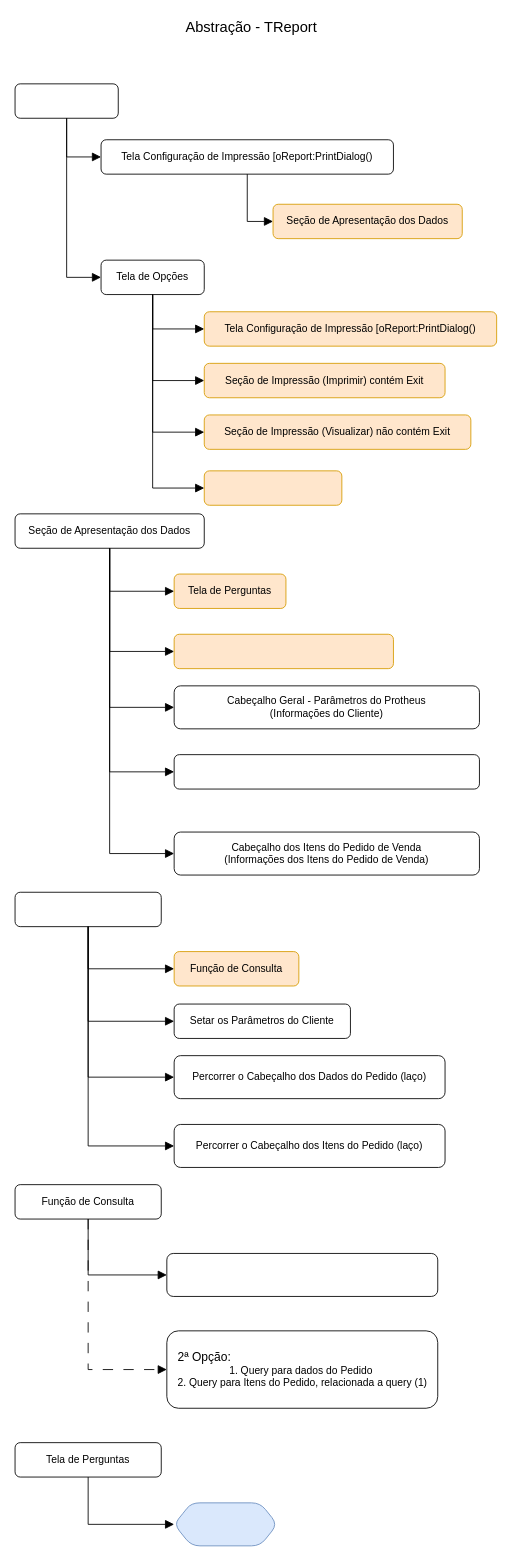
The diagram is 512 pixels wide and 1561 high, and some of its shapes have lost their labels. The box of each missing label's shape, as (x1, y1, x2, y2) in pixels:
1ª Opção: uma única Query: (166, 1253, 438, 1296)
Cabeçalho de Dados do Pedido (Informações do Pedido): (173, 754, 479, 789)
Configurador: (173, 1502, 277, 1546)
Exit (Sair): (203, 470, 342, 505)
Função Principal: (14, 83, 118, 118)
Seção de Impressão: (14, 891, 161, 927)
{|oRel| Seção de Impressão (oRel, cAlias)}: (173, 633, 393, 669)
